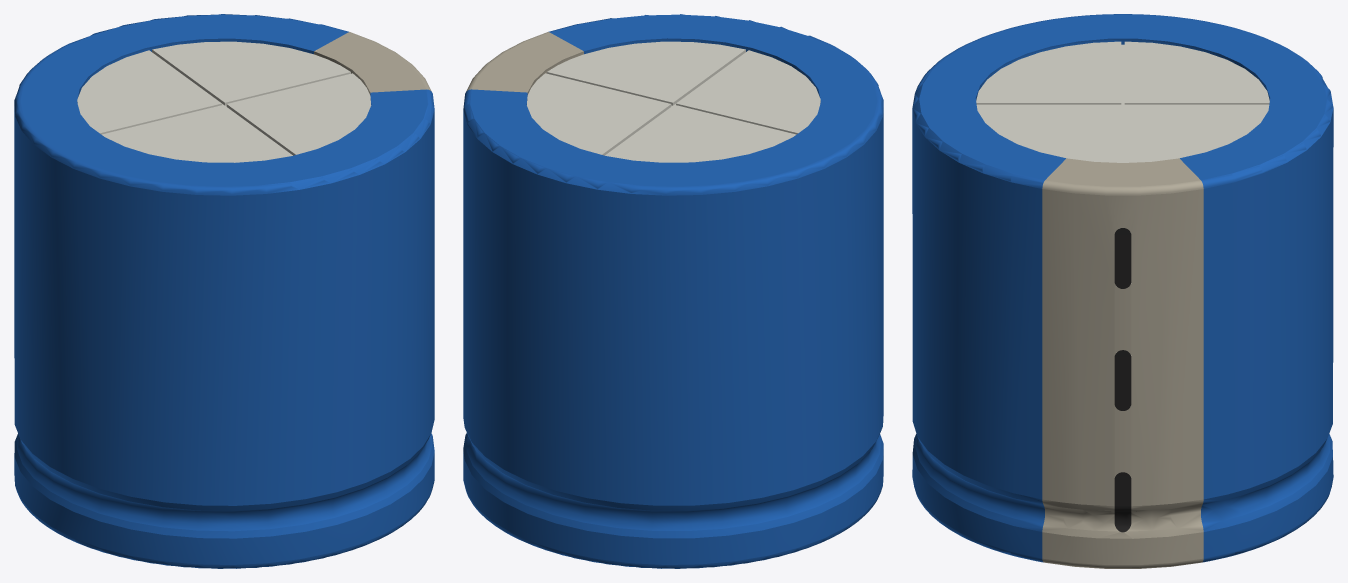
File: kc-cp_radial_d12.5mm_p2.50mm.glb
The picture shows the model from 3 angles, left to right: view 1: azimuth 30°, elevation 25°; view 2: azimuth 150°, elevation 25°; view 3: azimuth 270°, elevation 25°; orthographic projection.
Visible parts, largest first — view 1: 0_0.16666666666666666_0.5_0, 0.6666666666666666_0.6666666666666666_0.5833333333333334_0.8, 0.4166666666666667_0.4166666666666667_0.3333333333333333_0; view 2: 0_0.16666666666666666_0.5_0, 0.6666666666666666_0.6666666666666666_0.5833333333333334_0.8, 0.4166666666666667_0.4166666666666667_0.3333333333333333_0; view 3: 0_0.16666666666666666_0.5_0, 0.4166666666666667_0.4166666666666667_0.3333333333333333_0, 0.6666666666666666_0.6666666666666666_0.5833333333333334_0.8, 0_0_0_0.
Boxes of the visible parts, x1,y1,x2,y2 form: 0_0.16666666666666666_0.5_0: (14,14,434,568); 0.6666666666666666_0.6666666666666666_0.5833333333333334_0.8: (77,41,371,162); 0.4166666666666667_0.4166666666666667_0.3333333333333333_0: (314,32,431,94); 0_0.16666666666666666_0.5_0: (463,14,883,568); 0.6666666666666666_0.6666666666666666_0.5833333333333334_0.8: (527,41,820,162); 0.4166666666666667_0.4166666666666667_0.3333333333333333_0: (466,32,583,94); 0_0.16666666666666666_0.5_0: (912,14,1333,562); 0.4166666666666667_0.4166666666666667_0.3333333333333333_0: (1042,158,1203,568); 0.6666666666666666_0.6666666666666666_0.5833333333333334_0.8: (976,41,1269,162); 0_0_0_0: (1114,228,1131,532).
Bounding box in the file's own units: 1.25 × 1.45 × 1.25.
